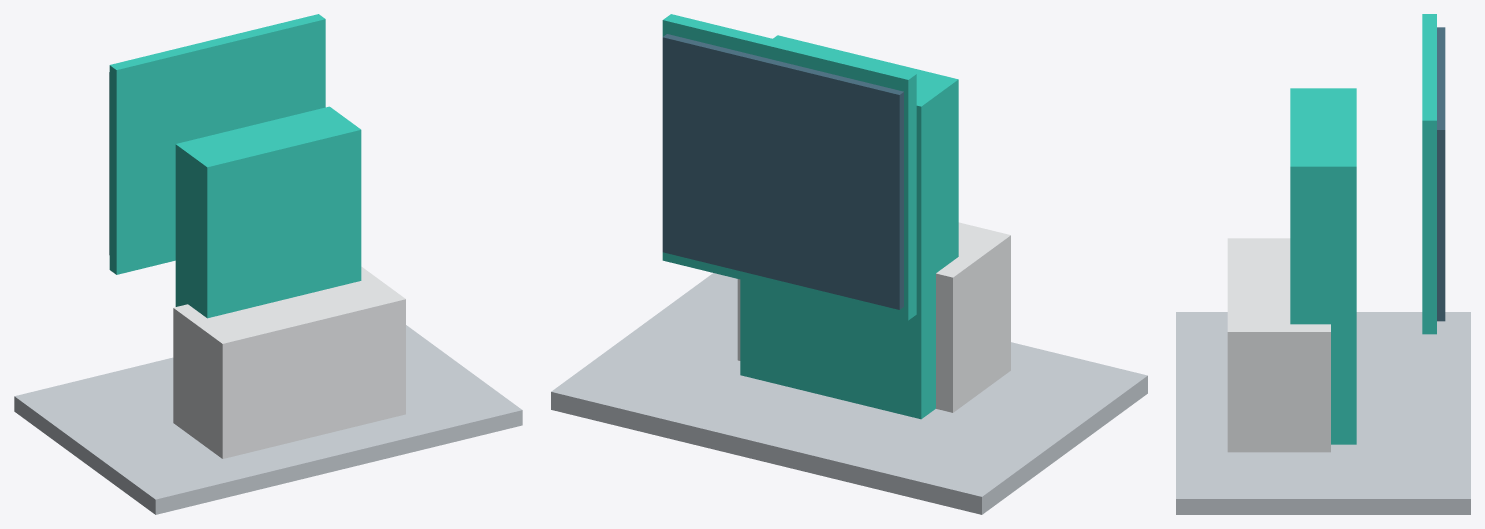
3 renders of one model, left to right at view 1: azimuth 30°, elevation 25°; view 2: azimuth 150°, elevation 25°; view 3: azimuth 270°, elevation 25°, orthographic. The views are drawn at different scales.
Visible parts, largest first — view 1: Exhibition Booth Concept; view 2: Exhibition Booth Concept; view 3: Exhibition Booth Concept.
Part boxes in pixels (x1,y1,x2,y2): Exhibition Booth Concept: [14, 14, 522, 514]; Exhibition Booth Concept: [551, 14, 1147, 514]; Exhibition Booth Concept: [1176, 14, 1470, 514].
Size of the model in its own units: 3 by 2.65 by 2.
